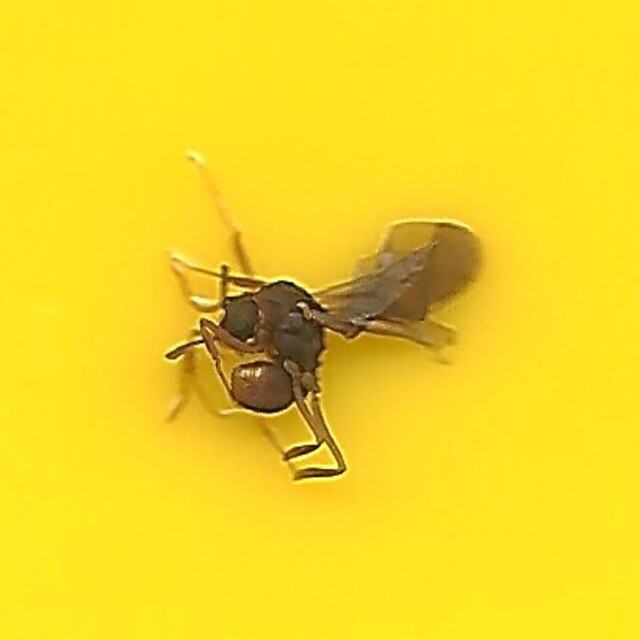Hymenoptera: (156, 161, 484, 479)
